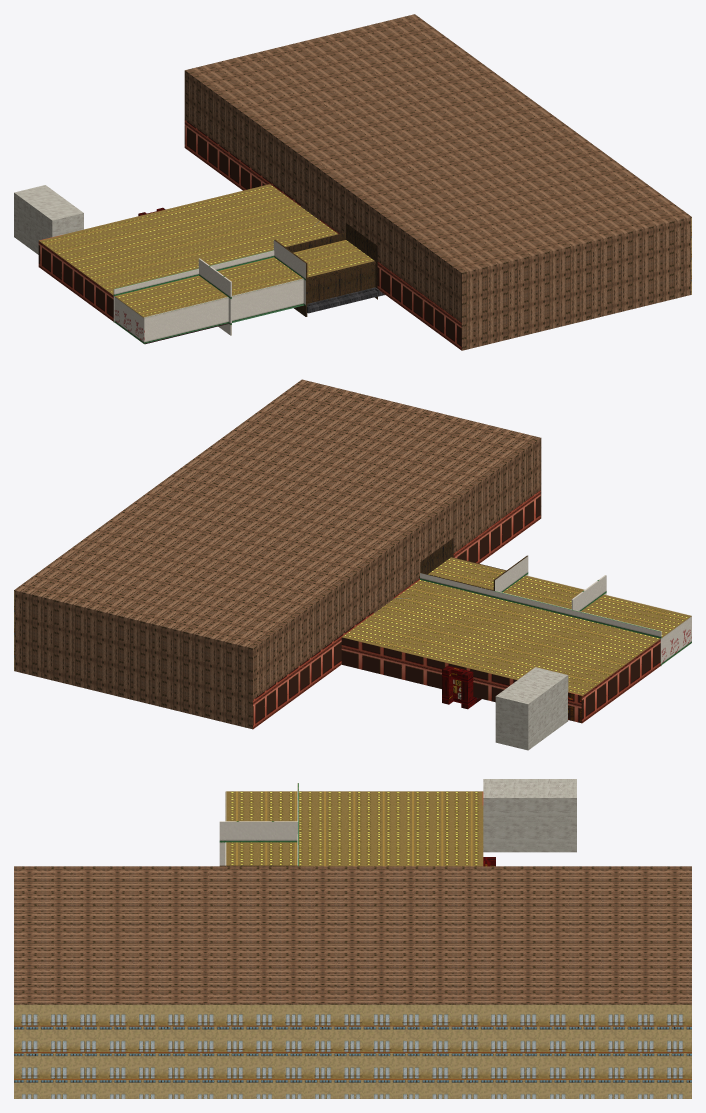
The model's file is Olympic_brush.glb.
3 renders of one model, top to bottom at view 1: azimuth 30°, elevation 25°; view 2: azimuth 150°, elevation 25°; view 3: azimuth 270°, elevation 25°, orthographic. The views are drawn at different scales.
Parts seen in each view (by area): view 1: Olympic; view 2: Olympic; view 3: Olympic.
Boxes of the visible parts, <box> form: Olympic: <box>14,14,691,350</box>; Olympic: <box>14,379,691,750</box>; Olympic: <box>14,779,691,1098</box>.
Bounding box in the file's own units: 2846 × 521 × 2958.
Materials: 29 (29 with a texture image).
